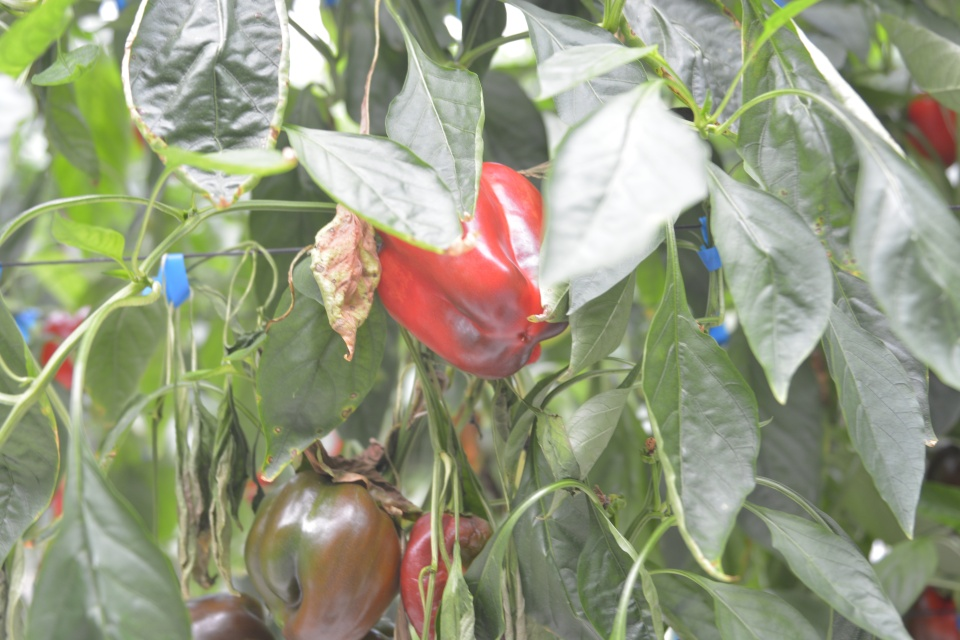fruit: (372, 159, 569, 380), (241, 467, 404, 640), (398, 508, 496, 638), (38, 306, 92, 389), (903, 91, 959, 168), (184, 593, 276, 639), (901, 583, 960, 638)
